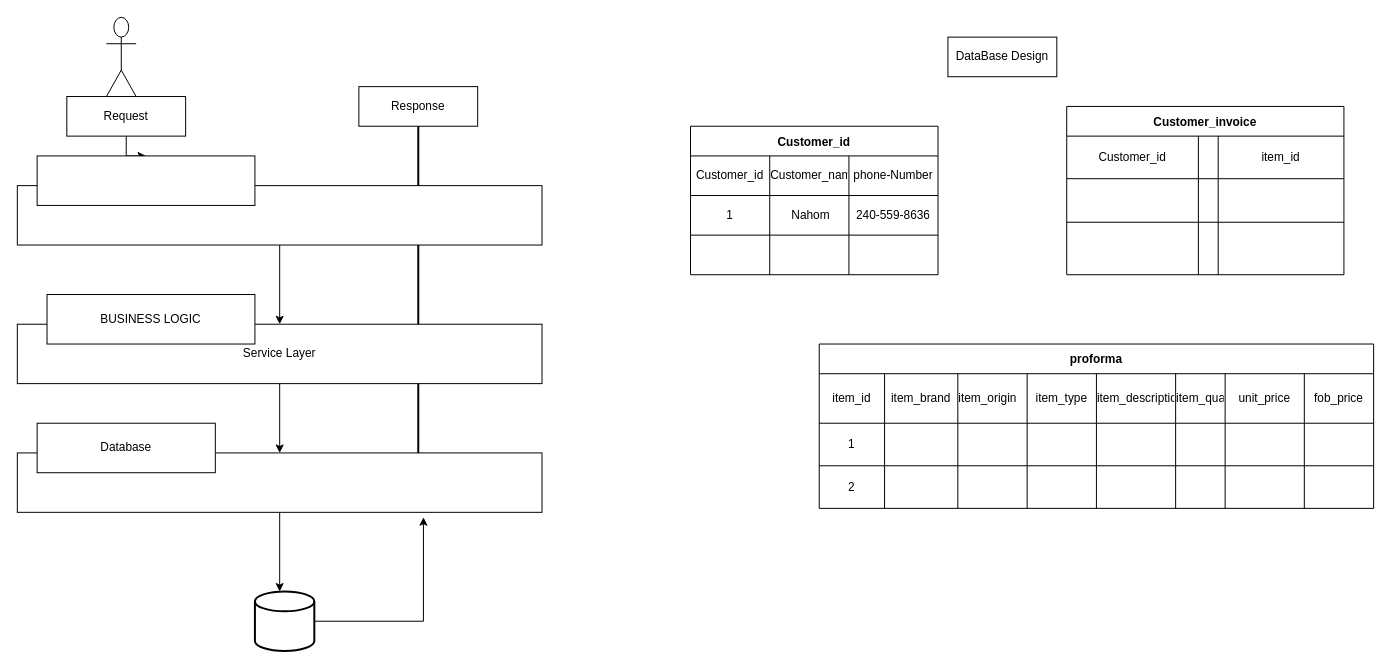
This 1391x669 diagram has some shape labels left out. The shapes that lost their labels are listed below. From the top down, each one's centre as x and y in pixels, then its label:
At (x=145, y=180): "HTTTP, GET, POST, DELETE, PUT".
At (x=279, y=215): "API Layer || Controller Layer || User input receiver".
At (x=279, y=482): "Data Access Layer".
